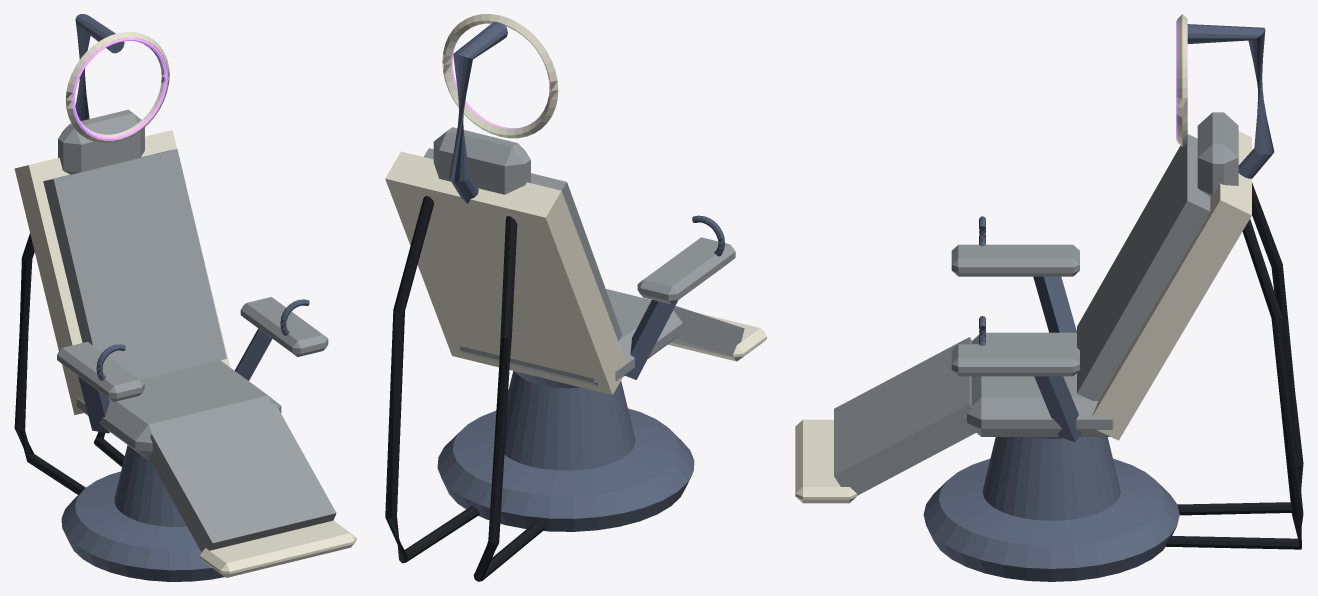
Rendered from bw_calibration_chair.glb.
The picture shows the model from 3 angles, left to right: view 1: azimuth 30°, elevation 25°; view 2: azimuth 150°, elevation 25°; view 3: azimuth 270°, elevation 25°; orthographic projection. The views are drawn at different scales.
Visible parts, largest first — view 1: back_pad, back_shell, turntable, arm_support, cable, calibration_coil; view 2: back_shell, turntable, back_pad, cable, arm_support; view 3: back_pad, turntable, back_shell, cable, arm_support.
Boxes of the visible parts, x1,y1,x2,y2 form: back_pad: (43, 109, 336, 551); back_shell: (14, 32, 356, 577); turntable: (61, 445, 224, 581); arm_support: (75, 14, 309, 433); cable: (14, 233, 124, 494); calibration_coil: (72, 38, 167, 140); back_shell: (385, 14, 766, 394); turntable: (437, 371, 694, 531); back_pad: (423, 127, 744, 385); cable: (385, 196, 545, 581); arm_support: (449, 22, 724, 379); back_pad: (834, 112, 1238, 495); turntable: (923, 437, 1179, 581); back_shell: (795, 14, 1251, 503); cable: (1165, 183, 1303, 549); arm_support: (979, 24, 1274, 441).
Bounding box in the file's own units: 1.11 × 2.2 × 1.98.
